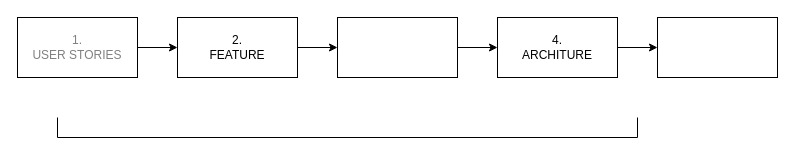
The diagram is 795 pixels wide and 156 high, and some of its shapes have lost their labels. Here are the shapes that lost their labels. From the top down, the centre of each, then its label:
pixel 397 47: 3. FLOWCHART
pixel 717 47: DEVELOPMENT
